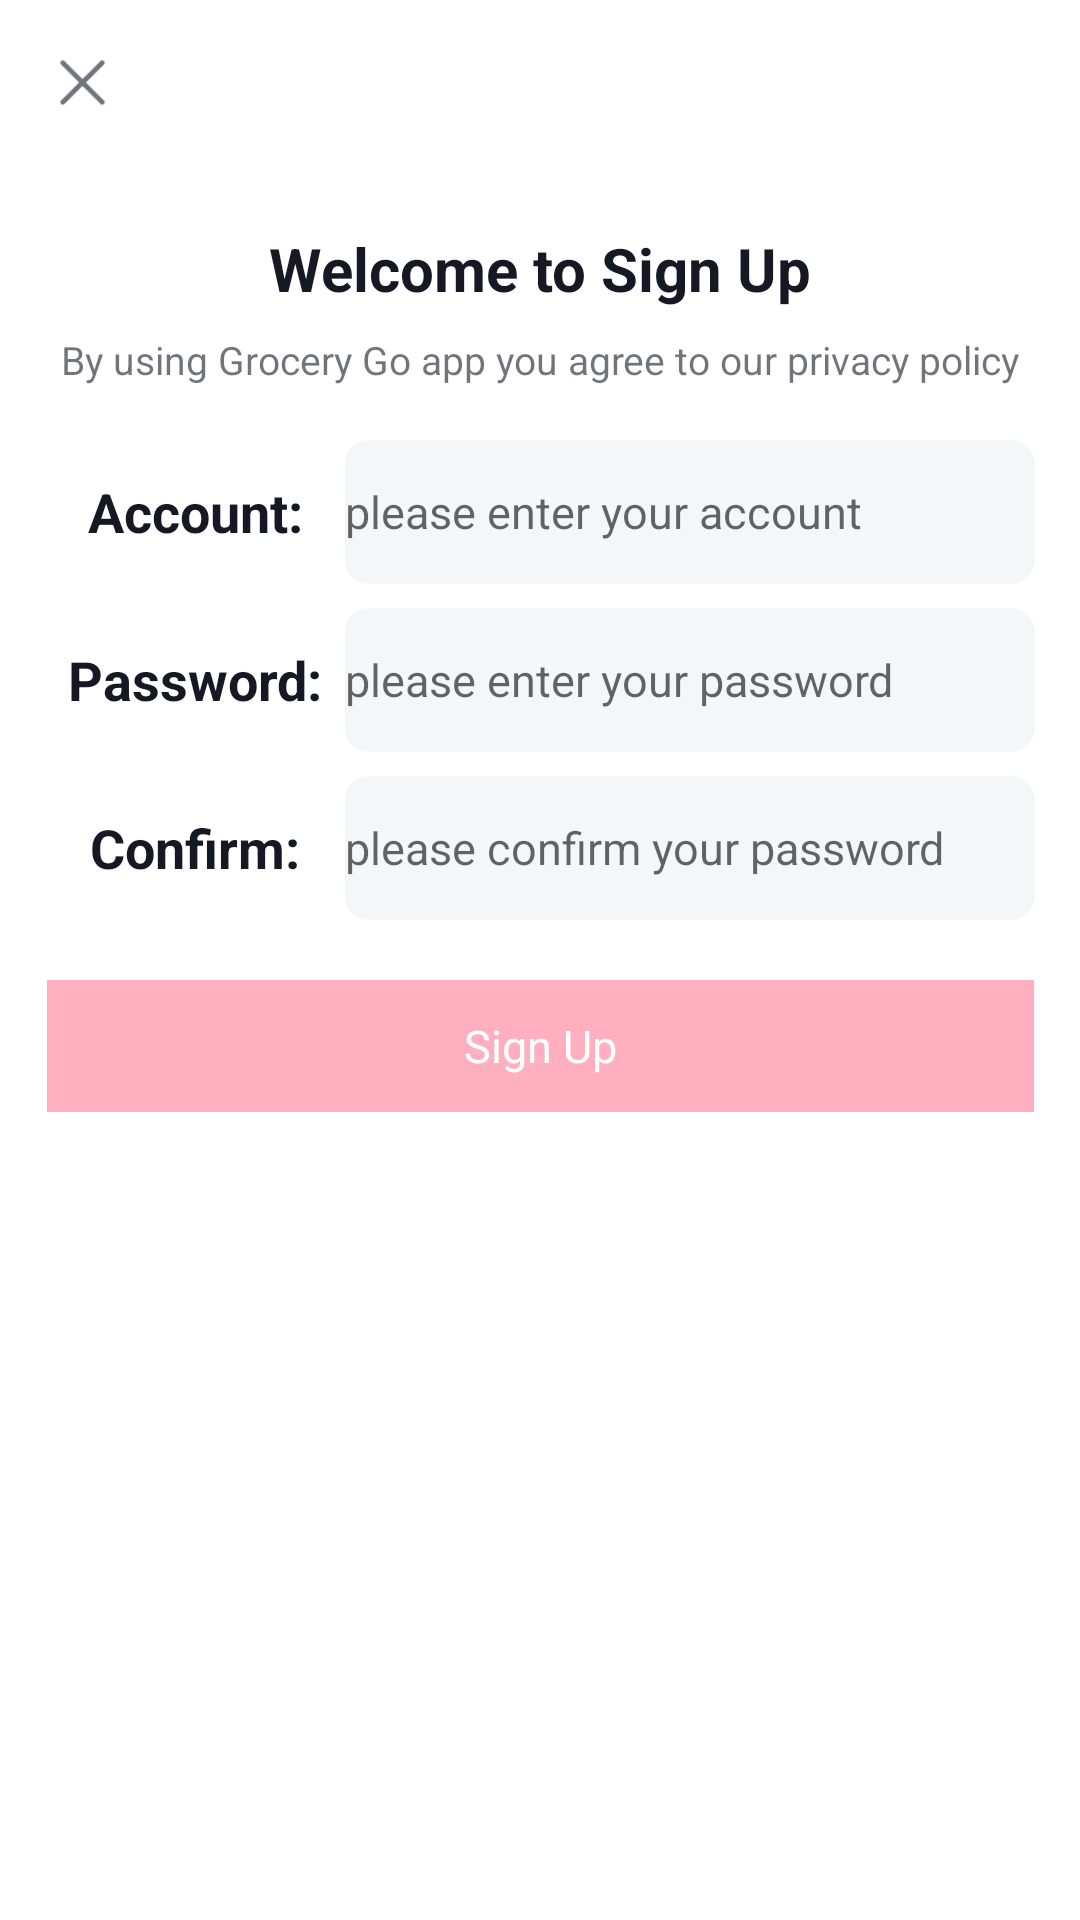

Locate icon controls on the screen. Image size 1080 x 1920, boxes as bbox(x1, y1, x2, y2).
dismiss: bbox(60, 60, 105, 105)
